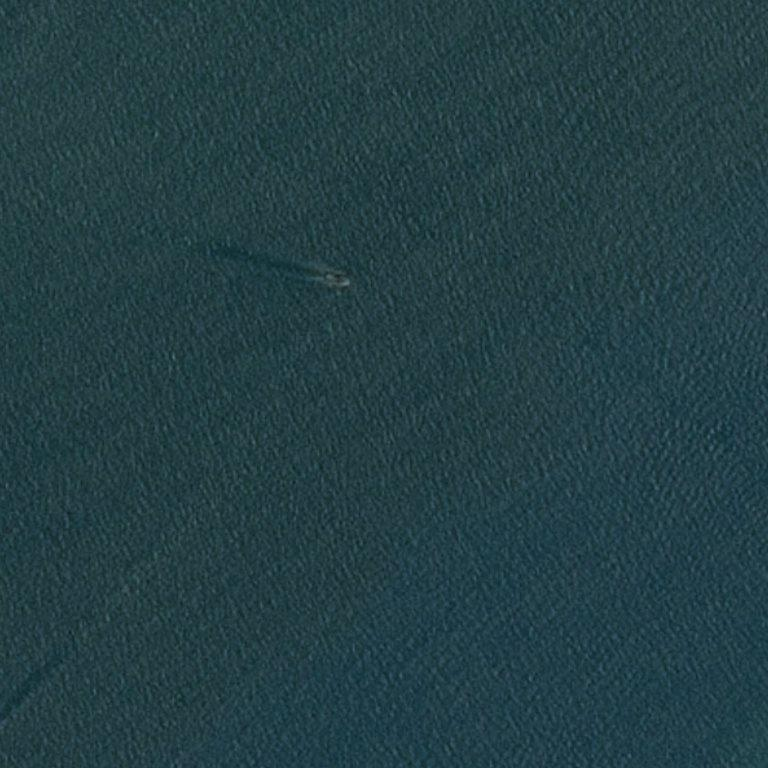ship: (323, 265, 354, 289), (346, 281, 352, 286), (321, 44, 325, 49), (328, 270, 333, 273)
